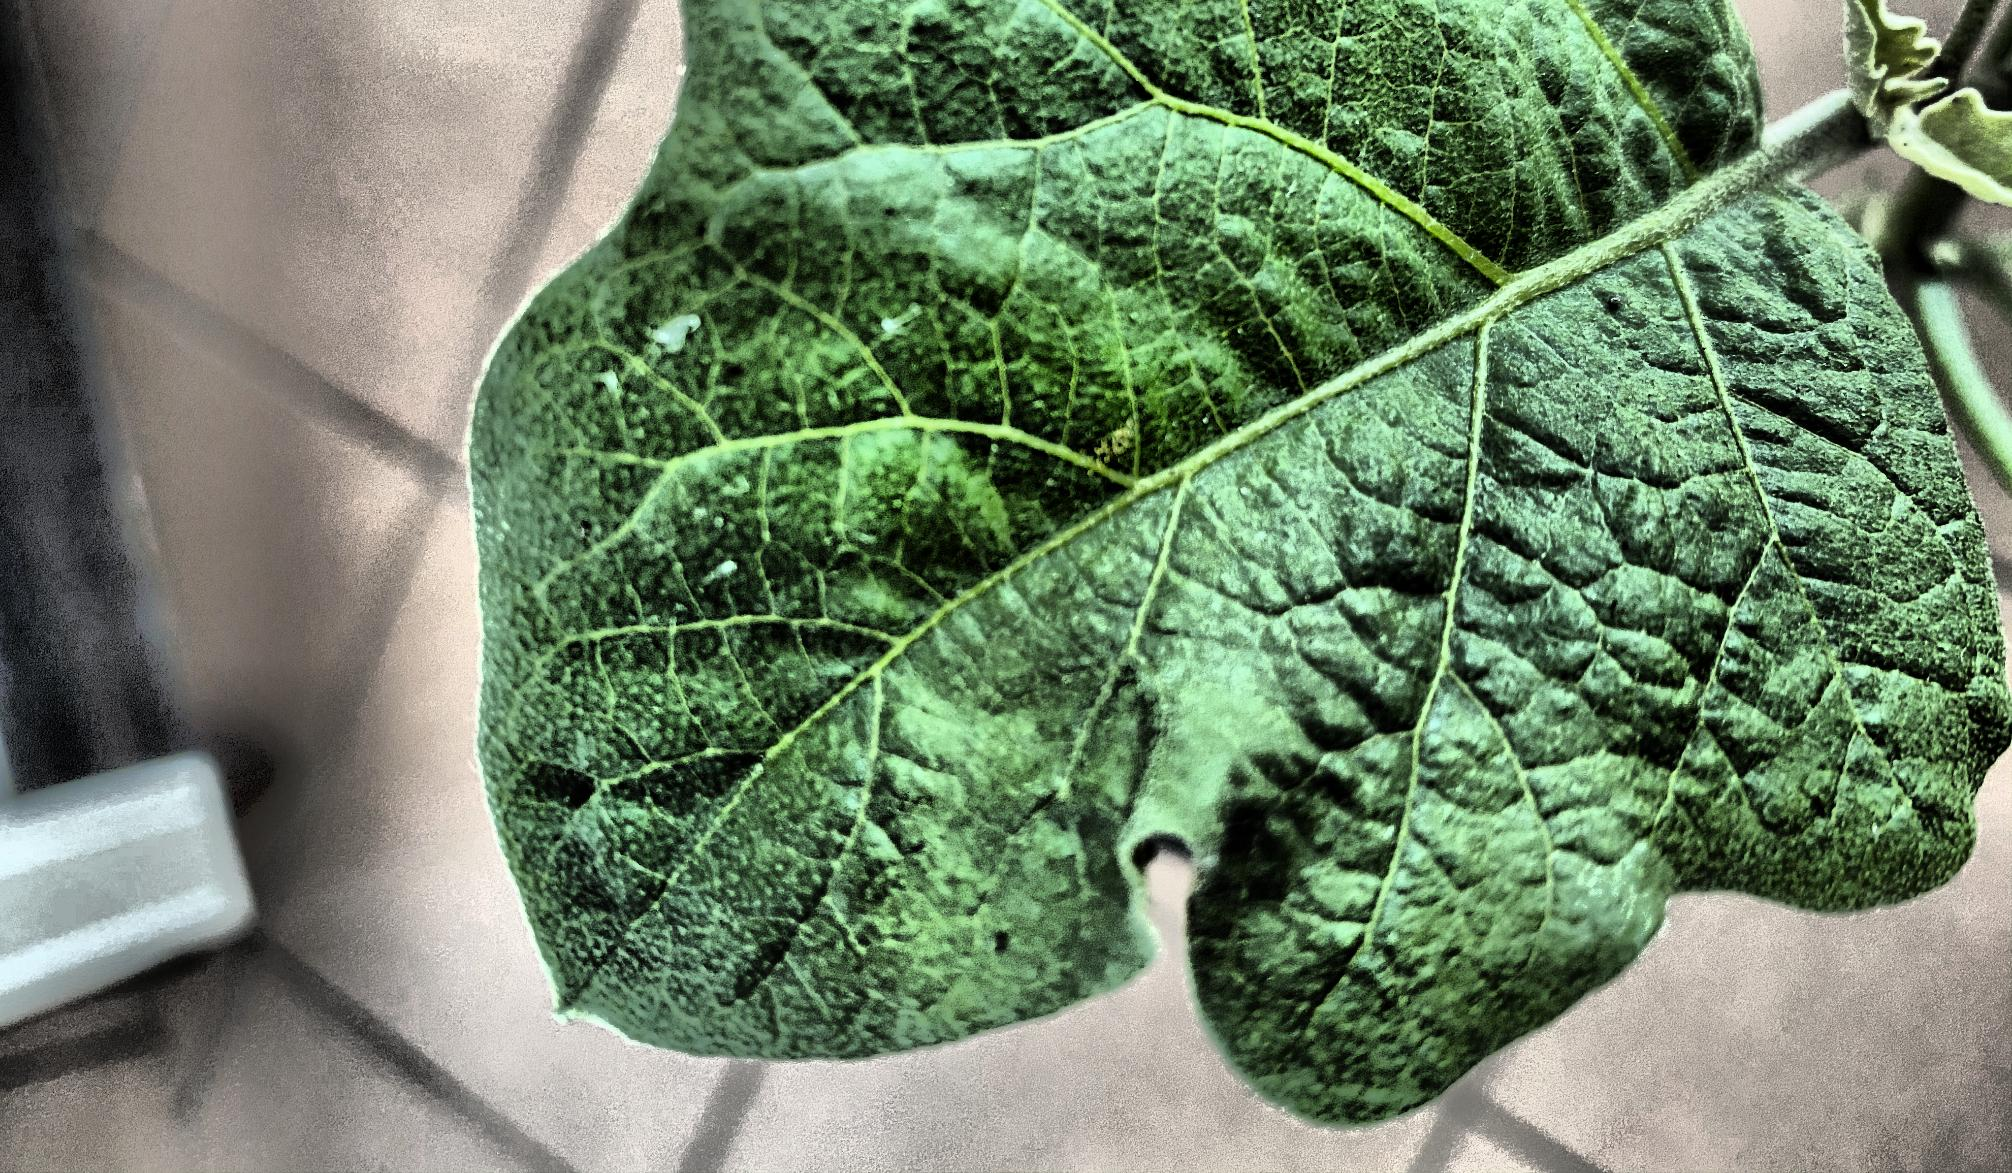HEALTHY: (0, 123, 1500, 1173)
